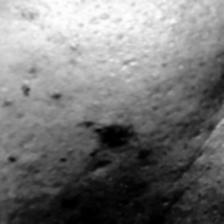Toxin: (78, 116, 138, 158)
